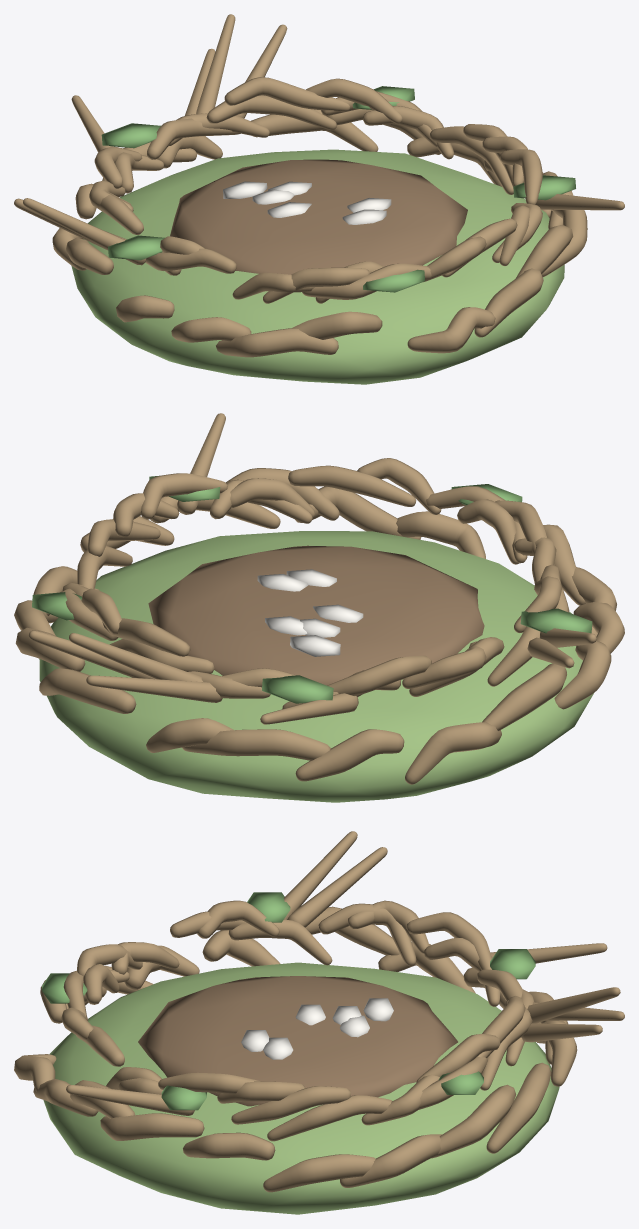
Rendered from village.nest.glb.
3 renders of one model, top to bottom at view 1: azimuth 30°, elevation 25°; view 2: azimuth 150°, elevation 25°; view 3: azimuth 270°, elevation 25°, orthographic. The views are drawn at different scales.
Parts seen in each view (by area): view 1: Twig, Moss, Earth, Leaf, Down; view 2: Twig, Moss, Earth, Leaf, Down; view 3: Twig, Moss, Earth, Leaf, Down.
Boxes of the visible parts, x1,y1,x2,y2 form: Twig: (14,14,624,357); Moss: (71,149,564,384); Earth: (170,159,467,274); Leaf: (101,86,575,292); Down: (223,181,391,224); Twig: (14,413,624,784); Moss: (39,531,593,802); Earth: (148,545,484,685); Leaf: (32,475,592,703); Down: (257,569,363,656); Twig: (14,831,624,1192); Moss: (43,962,559,1214); Earth: (138,976,457,1106); Leaf: (42,892,535,1110); Down: (241,998,393,1059).
Bounding box in the file's own units: 1.02 × 0.3592 × 1.03.
